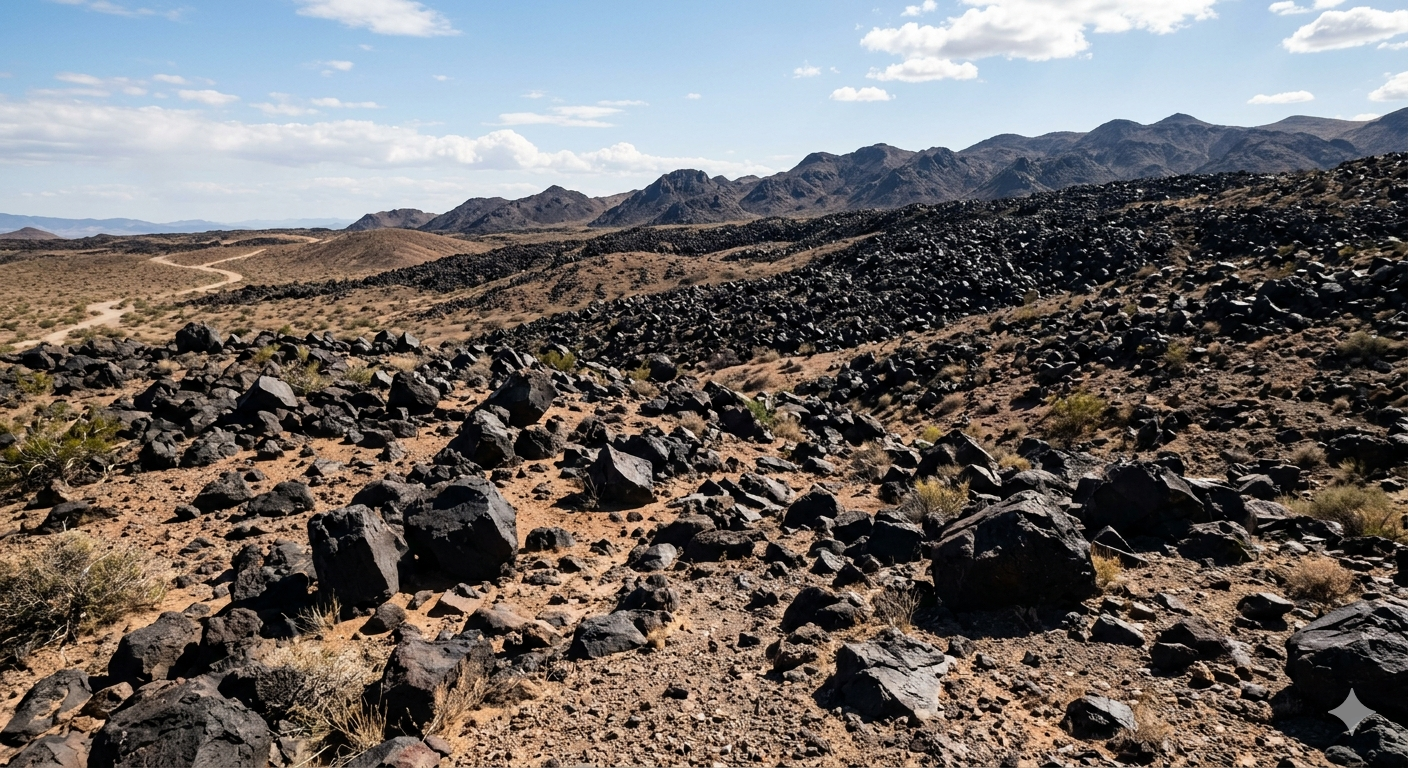rocks: (931, 491, 1095, 608), (88, 677, 269, 767), (1285, 598, 1407, 721), (370, 632, 491, 733), (404, 475, 517, 580), (836, 628, 952, 719), (308, 504, 400, 605), (1081, 464, 1202, 536), (0, 668, 90, 744), (107, 610, 201, 682), (569, 610, 668, 657), (482, 370, 556, 427), (586, 445, 654, 505), (445, 409, 514, 468), (781, 586, 868, 630), (1178, 519, 1255, 564), (1060, 696, 1135, 738), (345, 735, 440, 767), (6, 730, 88, 767), (191, 470, 252, 513), (245, 480, 314, 516), (783, 485, 841, 527), (387, 370, 439, 414), (236, 375, 297, 412), (684, 529, 753, 561), (1090, 614, 1144, 646), (1236, 591, 1293, 620), (360, 601, 406, 633), (175, 321, 221, 353), (628, 543, 676, 570), (524, 527, 574, 551), (1082, 481, 1083, 485)
